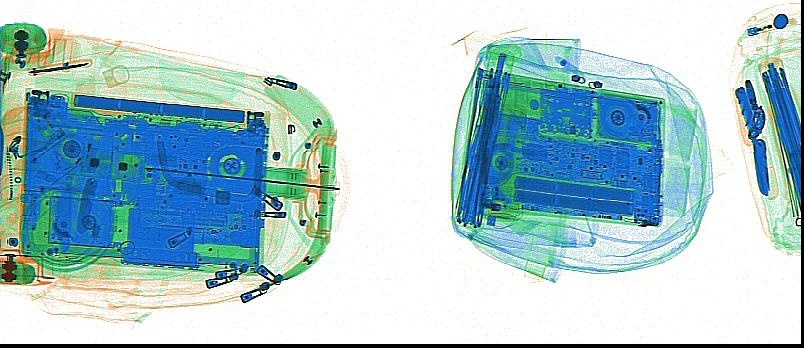knife: (752, 134, 778, 199), (733, 85, 758, 145), (74, 175, 98, 234), (27, 58, 91, 76)
lighter: (745, 17, 797, 37)
